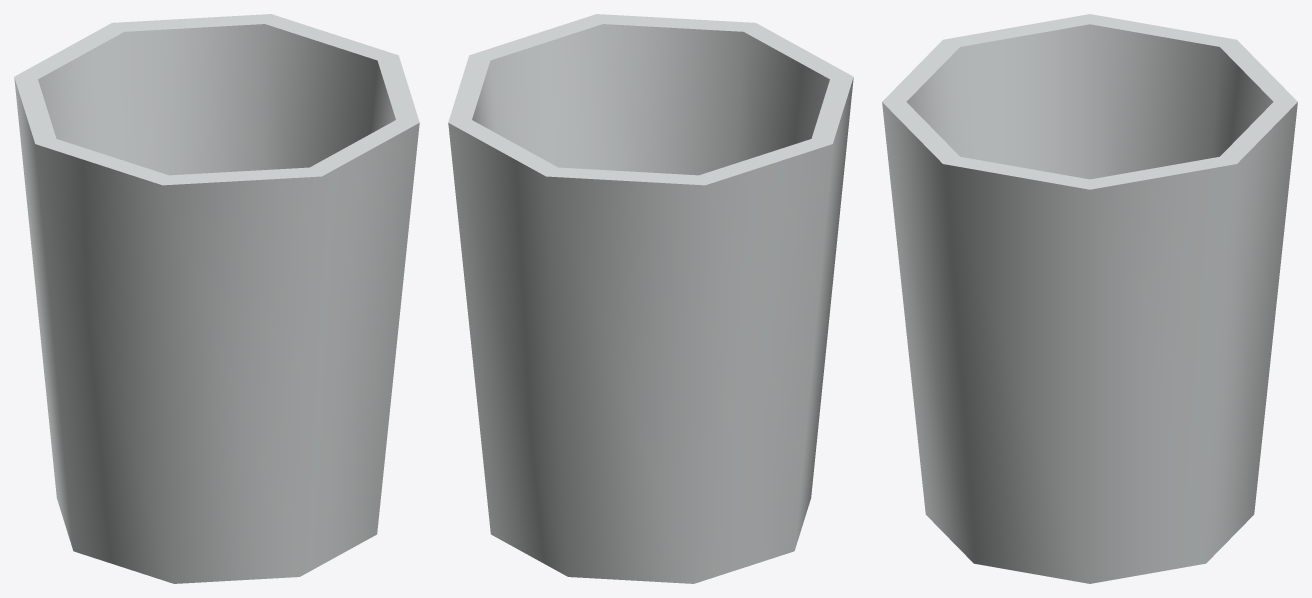
File: coin cup.fbx
The picture shows the model from 3 angles, left to right: view 1: azimuth 30°, elevation 25°; view 2: azimuth 150°, elevation 25°; view 3: azimuth 270°, elevation 25°; orthographic projection.
Parts seen in each view (by area): view 1: coin cup; view 2: coin cup; view 3: coin cup.
Boxes of the visible parts, x1=… form: coin cup: x1=14, y1=14, x2=419, y2=583; coin cup: x1=448, y1=14, x2=853, y2=583; coin cup: x1=882, y1=14, x2=1297, y2=583.
Bounding box in the file's own units: 0.1993 × 0.2182 × 0.1993.
